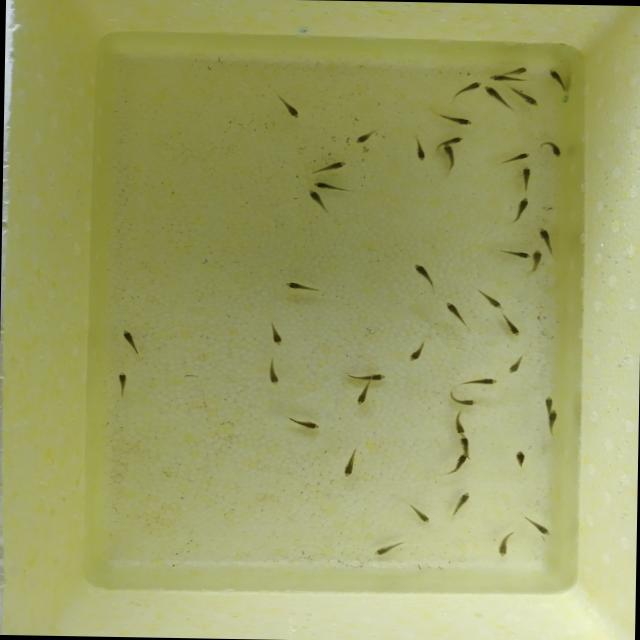fingerling: (446, 490, 477, 522), (522, 512, 555, 540), (336, 448, 364, 481), (365, 538, 411, 558), (433, 110, 477, 130), (274, 92, 305, 120), (491, 528, 518, 560), (305, 158, 352, 176), (440, 298, 468, 328), (402, 503, 437, 526), (118, 328, 144, 358), (410, 260, 438, 287), (474, 286, 504, 310), (305, 191, 333, 216), (262, 358, 286, 387), (496, 312, 522, 338), (279, 280, 329, 293), (446, 454, 472, 478), (264, 319, 284, 349), (538, 138, 568, 158), (406, 340, 429, 366), (511, 85, 538, 107), (542, 68, 569, 90), (286, 416, 322, 432), (456, 376, 500, 389), (484, 84, 506, 110), (449, 80, 482, 97), (505, 448, 528, 472), (113, 369, 132, 398), (448, 410, 470, 435), (408, 137, 430, 162), (350, 128, 380, 146), (444, 391, 479, 406), (438, 144, 456, 173), (494, 151, 534, 164), (342, 372, 389, 382), (536, 224, 554, 250), (511, 196, 532, 218), (352, 385, 372, 408), (506, 352, 524, 376), (305, 180, 347, 190), (517, 166, 534, 190), (527, 250, 544, 274), (497, 248, 528, 260), (544, 409, 560, 432), (454, 435, 472, 453), (437, 134, 469, 144), (490, 75, 529, 83), (497, 66, 532, 74), (542, 392, 554, 410)
